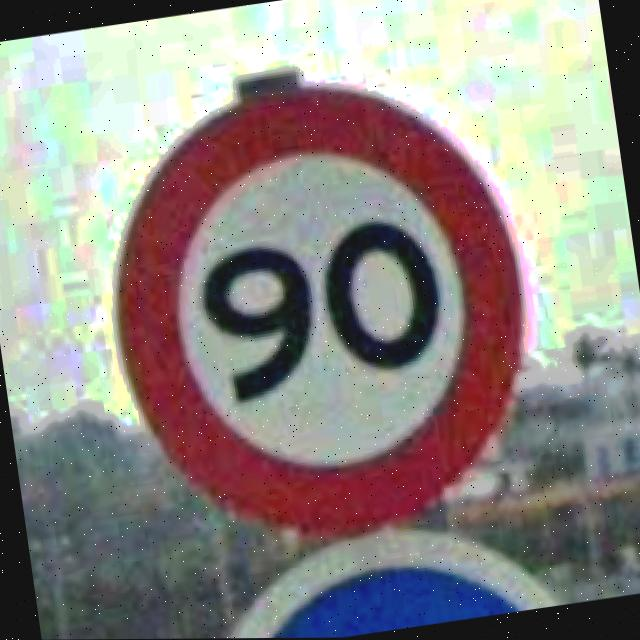max90: (79, 44, 554, 567)
